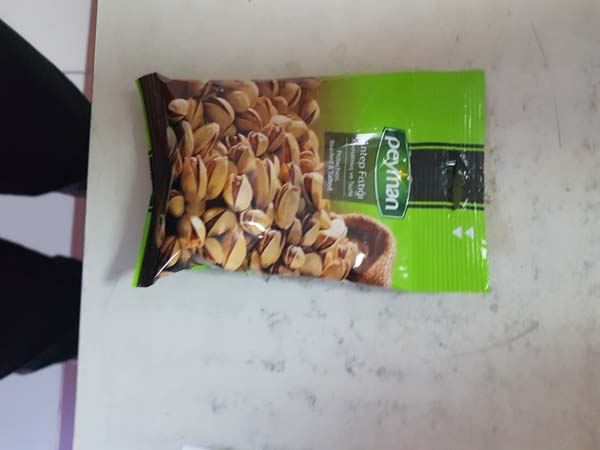antepfistigi: (127, 66, 502, 298)
